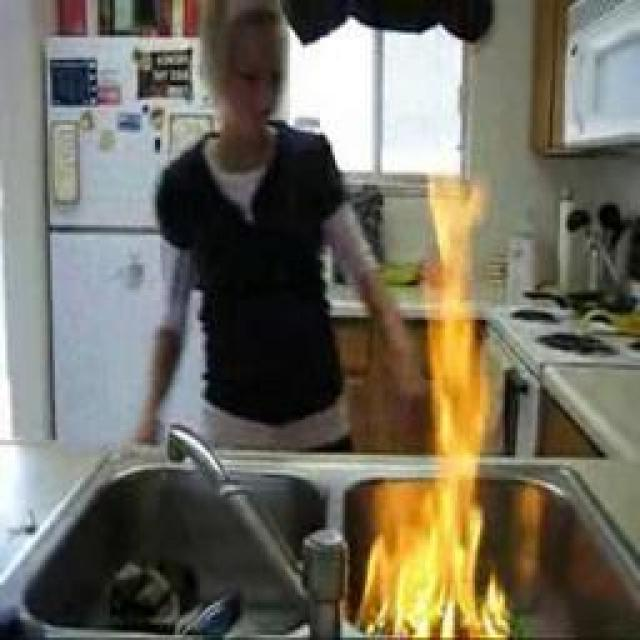Fire: (364, 183, 491, 640)
